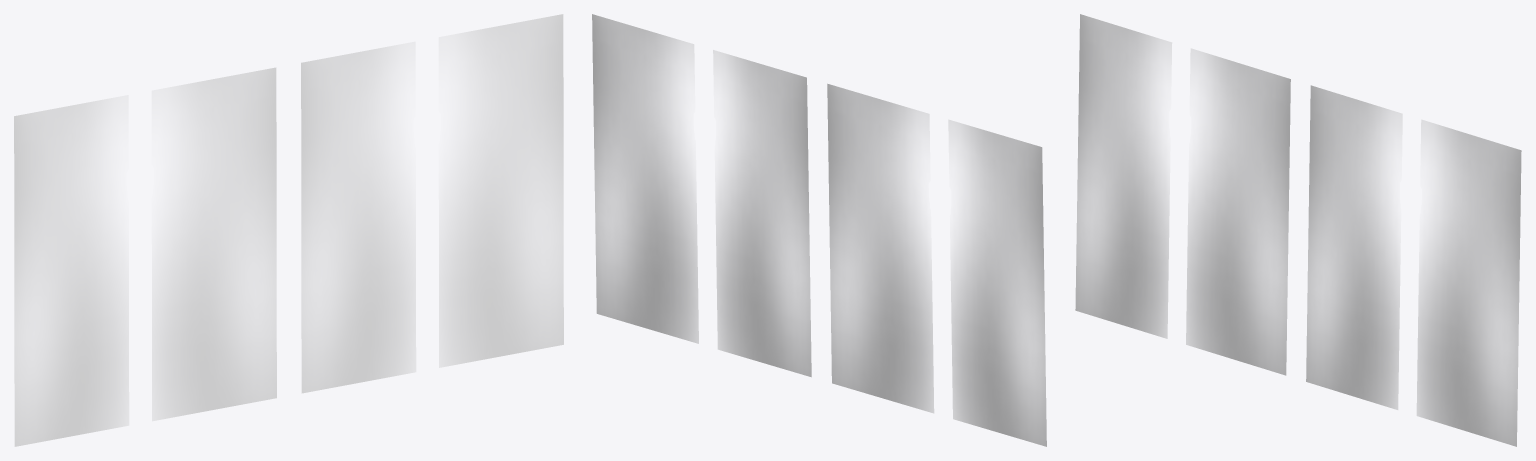
Rendered from fridge1.001_fridgeglass_0_lev2.glb.
3 views of the same model, side by side, from view 1: azimuth 30°, elevation 25°; view 2: azimuth 150°, elevation 25°; view 3: azimuth 330°, elevation 25° (orthographic). The views are drawn at different scales.
Parts seen in each view (by area): view 1: fridge1.001_fridgeglass_0_lev2; view 2: fridge1.001_fridgeglass_0_lev2; view 3: fridge1.001_fridgeglass_0_lev2.
Part boxes in pixels (x1=…): fridge1.001_fridgeglass_0_lev2: x1=14, y1=14, x2=563, y2=446; fridge1.001_fridgeglass_0_lev2: x1=592, y1=14, x2=1046, y2=446; fridge1.001_fridgeglass_0_lev2: x1=1075, y1=14, x2=1521, y2=446.
Size of the model in its own units: 10.82 by 6.56 by 1.15.
Materials: 1 (1 with a texture image).
